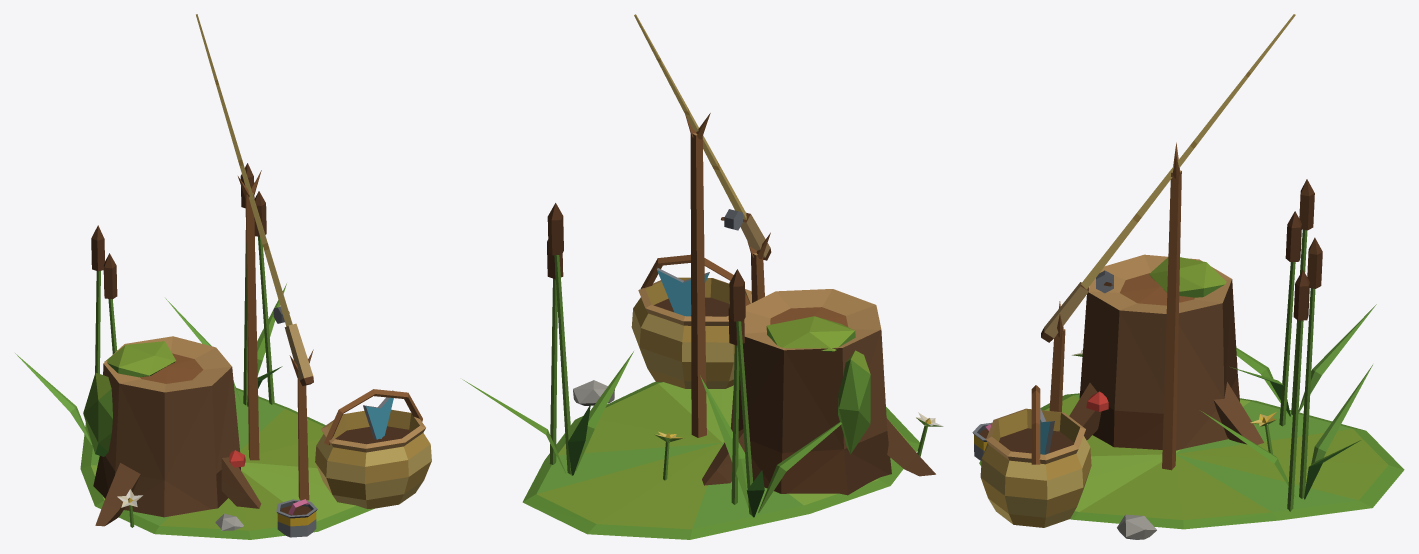
The model's file is fishing_spot.glb.
3 views of the same model, side by side, from view 1: azimuth 30°, elevation 25°; view 2: azimuth 150°, elevation 25°; view 3: azimuth 270°, elevation 25° (orthographic). The views are drawn at different scales.
Visible parts, largest first — view 1: fishing_spot, rod; view 2: fishing_spot, rod; view 3: fishing_spot, rod.
Boxes of the visible parts, x1,y1,x2,y2 form: fishing_spot: (15,163,431,539); rod: (196,14,313,385); fishing_spot: (462,113,943,539); rod: (634,14,771,260); fishing_spot: (972,142,1404,539); rod: (1041,14,1295,342).
Bounding box in the file's own units: 0.9895 × 1.28 × 1.09.
